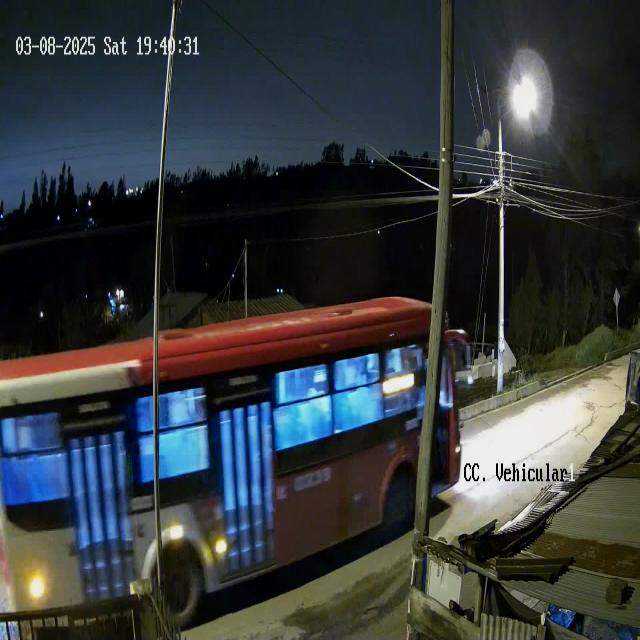BUS: (1, 290, 463, 640)
